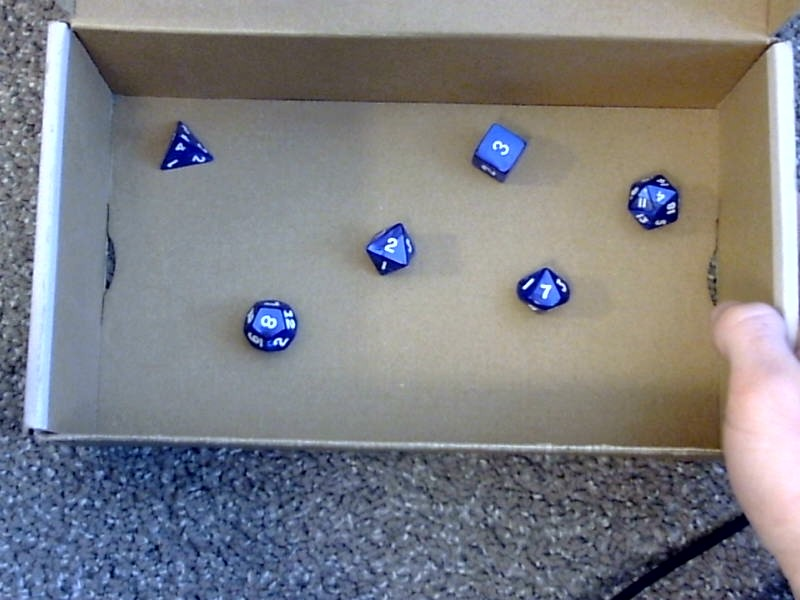d10 7: (508, 263, 577, 315)
d12 8: (239, 295, 299, 353)
d20 4: (622, 172, 683, 232)
d4 4: (155, 116, 214, 176)
d6 3: (468, 122, 528, 184)
d8 2: (366, 220, 416, 278)
